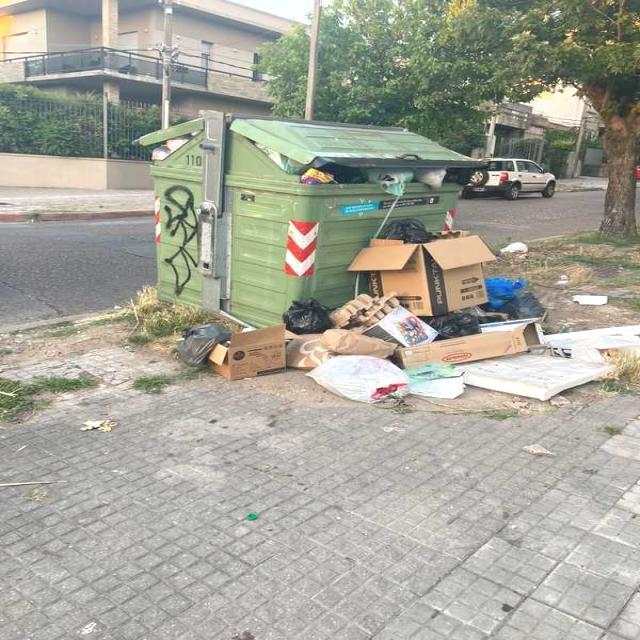high trash: (179, 221, 640, 403)
less trash: (80, 419, 118, 432), (500, 241, 529, 255), (522, 444, 553, 456), (572, 295, 608, 305)
